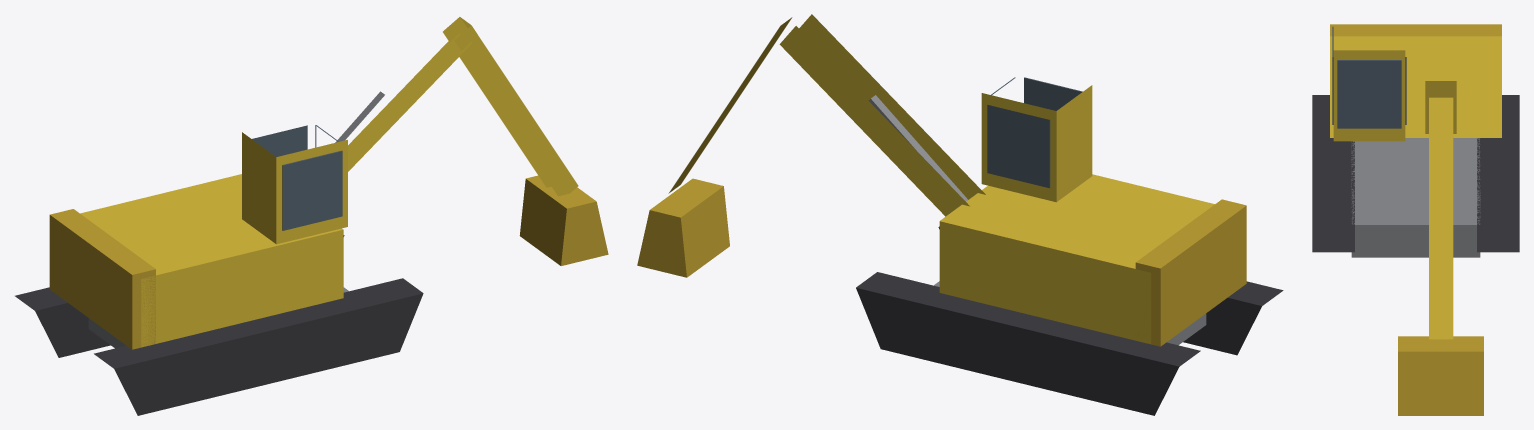
Rendered from pelleteuse.glb.
3 renders of one model, left to right at view 1: azimuth 30°, elevation 25°; view 2: azimuth 150°, elevation 25°; view 3: azimuth 270°, elevation 25°, orthographic. The views are drawn at different scales.
Parts seen in each view (by area): view 1: pelleteuse; view 2: pelleteuse; view 3: pelleteuse.
Boxes of the visible parts, x1,y1,x2,y2 form: pelleteuse: (15, 17, 608, 415); pelleteuse: (637, 14, 1283, 415); pelleteuse: (1312, 24, 1519, 415).
Size of the model in its own units: 9 by 4.18 by 2.9.
